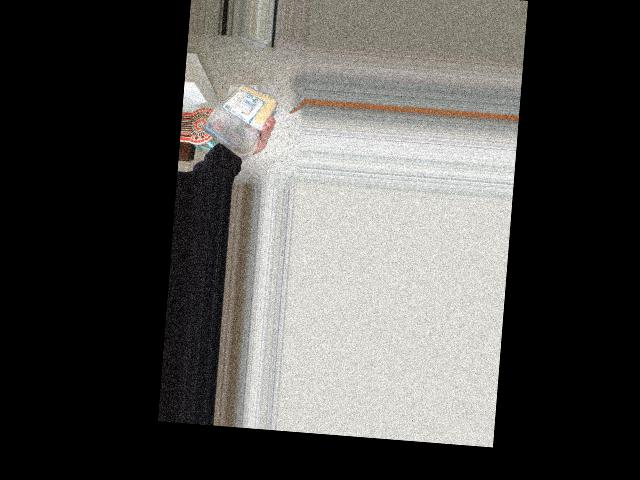cheese: (200, 76, 270, 151)
